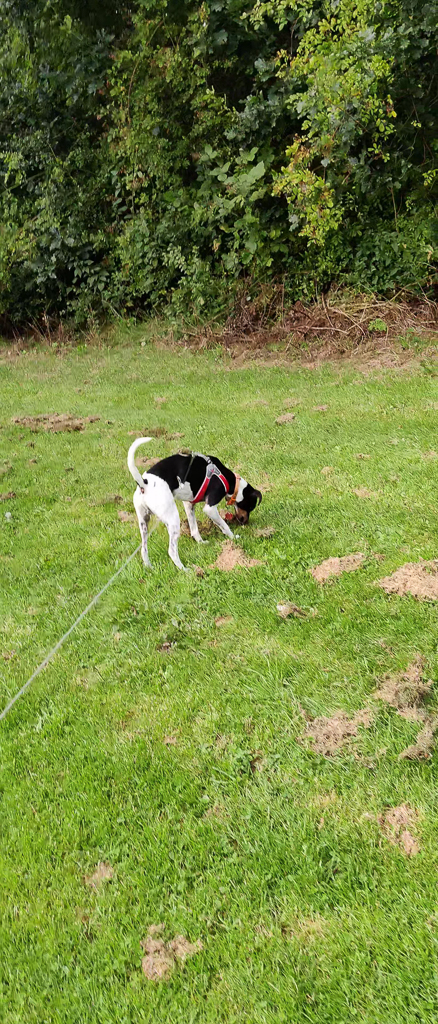Dog: (121, 434, 268, 576)
